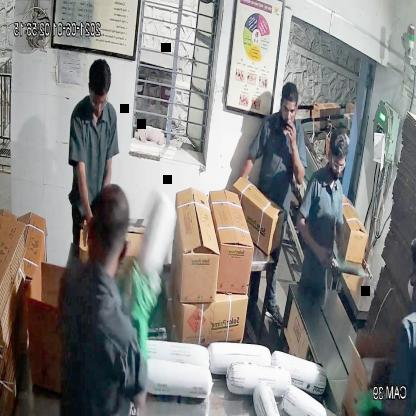goggles: (326, 153, 348, 178)
